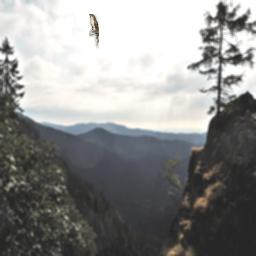Cuckoo: (89, 14, 99, 49)
